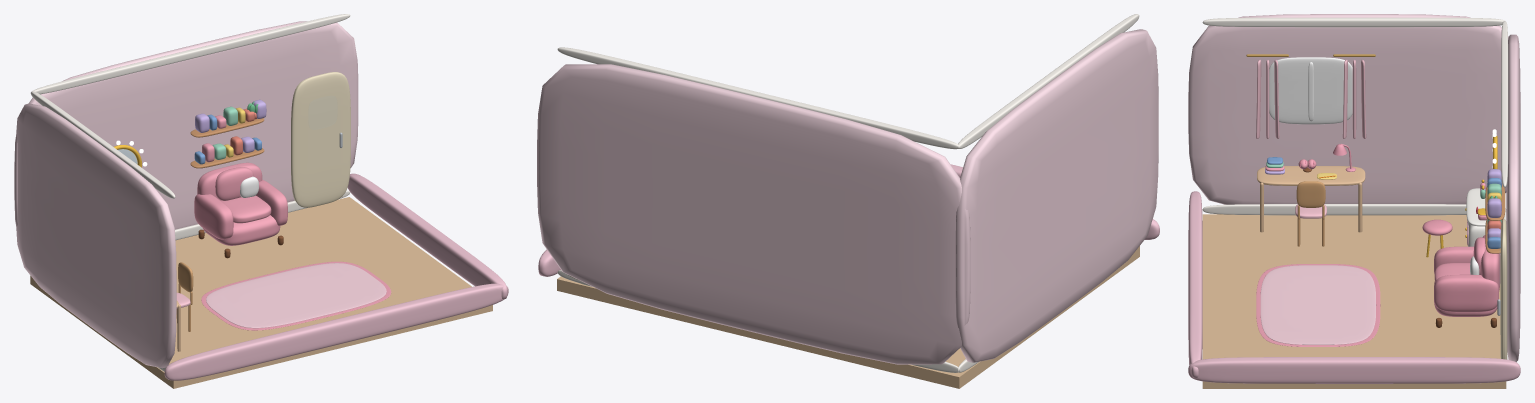
Rendered from casa_cuarto_ella.glb.
3 views of the same model, side by side, from view 1: azimuth 30°, elevation 25°; view 2: azimuth 150°, elevation 25°; view 3: azimuth 270°, elevation 25° (orthographic). The views are drawn at different scales.
Parts seen in each view (by area): view 1: pared izquierda.004, pared fondo.004, piso.004, muro bajo frente.004, tapete.004, puerta.004, muro bajo derecha.004, cornisa fondo.004, brazo sillón.002, cornisa izquierda.004, borde tapete.004, base sillón.001 (+7 smaller); view 2: pared fondo.004, pared izquierda.004, piso.004, cornisa fondo.004, cornisa izquierda.004; view 3: pared izquierda.004, piso.004, tapete.004, muro bajo derecha.004, marco.002, pared fondo.004, cornisa izquierda.004, zócalo izquierdo.004, muro bajo frente.004, brazo sillón.003, tabla escritorio.001, cornisa fondo.004 (+17 smaller).
Part boxes in pixels (x1,y1,x2,y2): pared izquierda.004: (16,103,176,368); pared fondo.004: (14,21,358,229); piso.004: (30,197,492,388); muro bajo frente.004: (164,283,508,380); tapete.004: (206,263,386,328); puerta.004: (291,72,350,207); muro bajo derecha.004: (347,173,507,299); cornisa fondo.004: (30,14,350,94); brazo sillón.002: (194,194,233,239); cornisa izquierda.004: (31,91,175,198); borde tapete.004: (201,261,391,330); base sillón.001: (203,215,280,245); pared fondo.004: (537,64,970,364); pared izquierda.004: (955,29,1158,362); piso.004: (557,246,1139,388); cornisa fondo.004: (557,47,959,149); cornisa izquierda.004: (957,14,1139,148); pared izquierda.004: (1188,14,1520,204); piso.004: (1202,214,1506,388); tapete.004: (1260,265,1376,344); muro bajo derecha.004: (1188,357,1520,383); marco.002: (1269,57,1352,124); pared fondo.004: (1506,34,1520,362); cornisa izquierda.004: (1202,17,1504,27); zócalo izquierdo.004: (1202,204,1506,215); muro bajo frente.004: (1188,191,1202,378); brazo sillón.003: (1434,274,1498,312); tabla escritorio.001: (1257,166,1365,185); cornisa fondo.004: (1501,21,1508,187).
Size of the model in its own units: 5.8 by 3.15 by 4.6.
